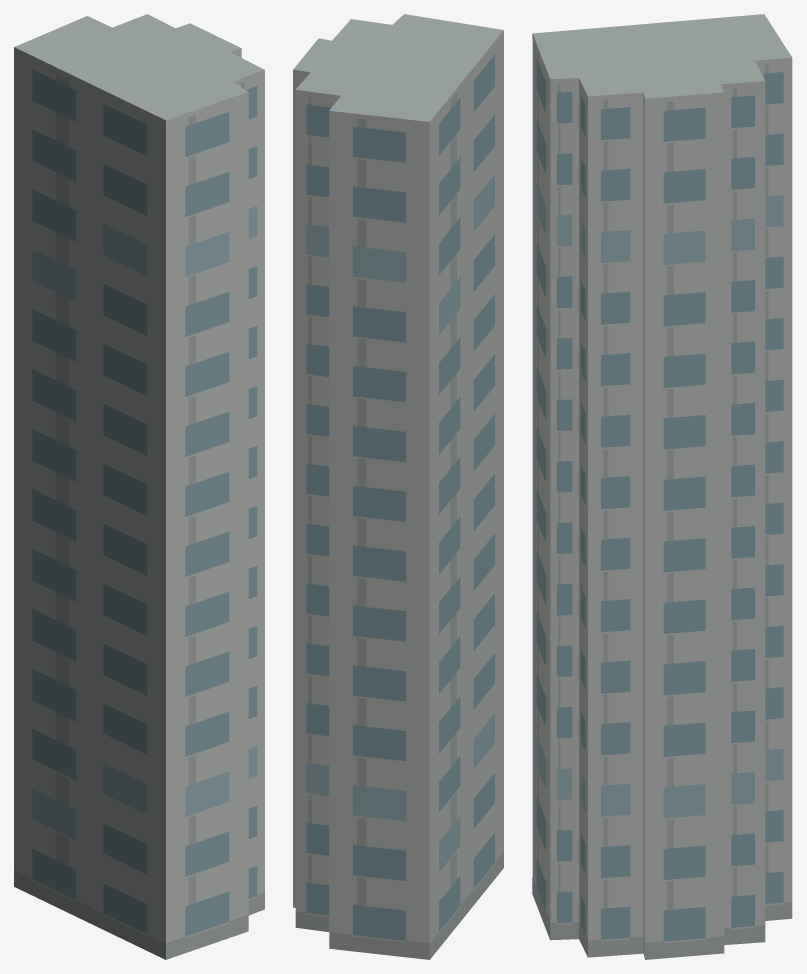
The model's file is survey-upis-32699311.glb.
3 views of the same model, side by side, from view 1: azimuth 30°, elevation 25°; view 2: azimuth 150°, elevation 25°; view 3: azimuth 270°, elevation 25° (orthographic). The views are drawn at different scales.
Parts seen in each view (by area): view 1: survey-upis-32699311.tmp; view 2: survey-upis-32699311.tmp; view 3: survey-upis-32699311.tmp.
Boxes of the visible parts, x1,y1,x2,y2 form: survey-upis-32699311.tmp: [14, 14, 264, 959]; survey-upis-32699311.tmp: [293, 14, 503, 959]; survey-upis-32699311.tmp: [532, 14, 792, 959].
Bounding box in the file's own units: 9.03 × 42.7 × 11.69.
